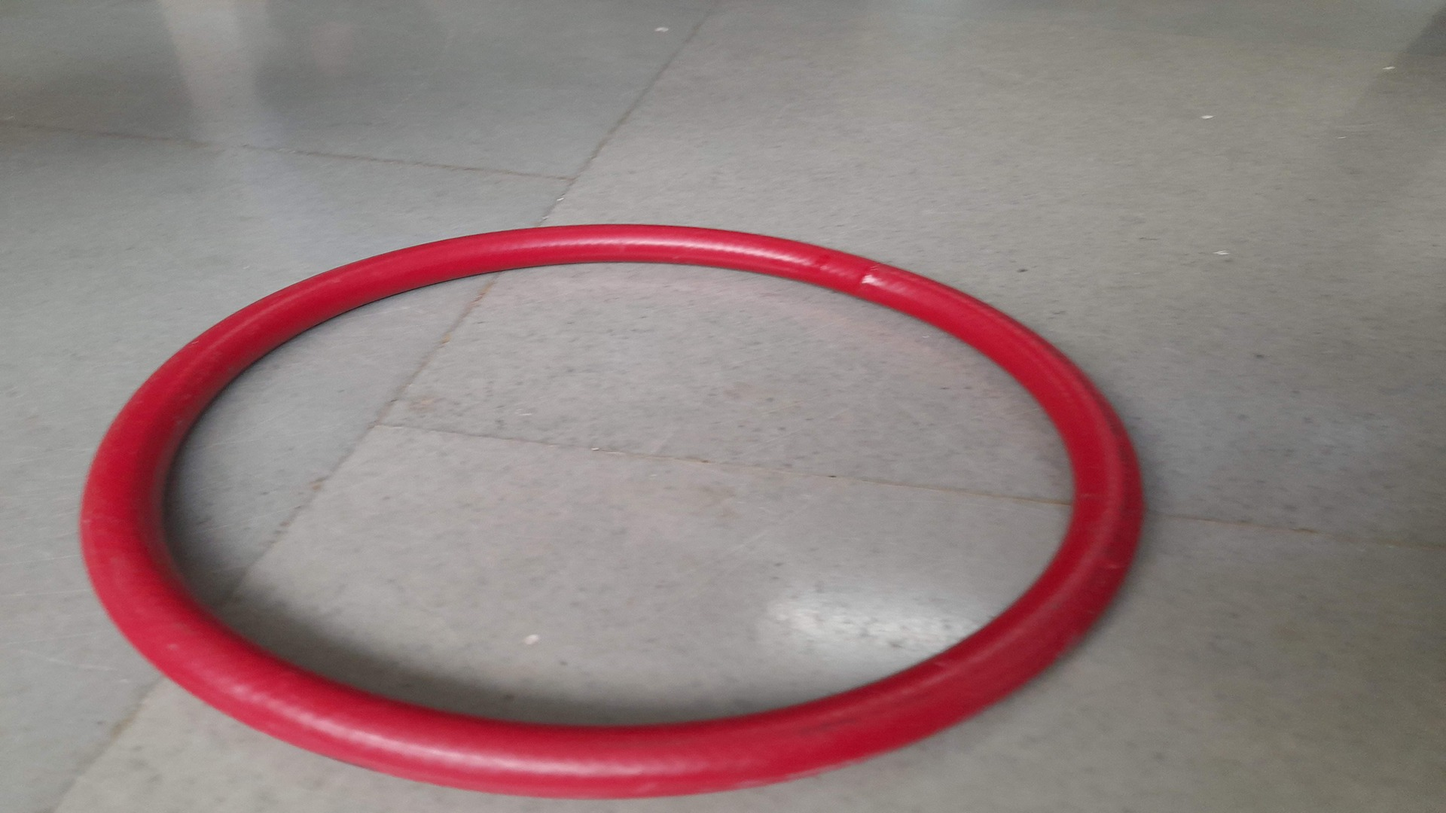Red ring: (81, 223, 1146, 802)
